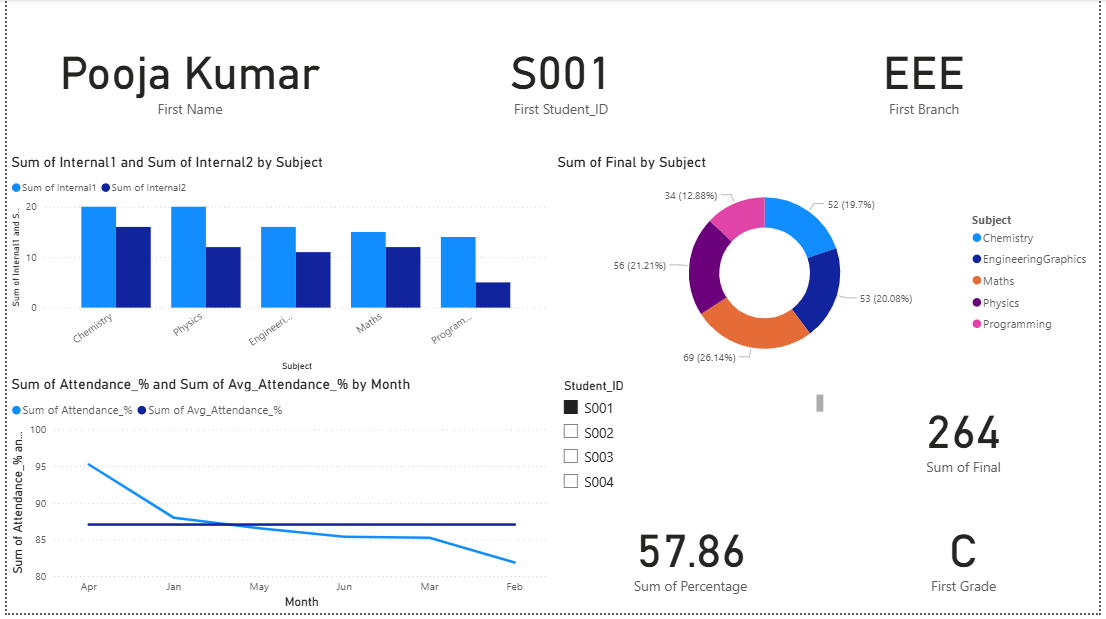

The dashboard page shown, as its layout file describes it:
{"tool":"powerbi","page":{"name":"Page 1","canvas":[1280,720],"ordinal":0},"visuals":[{"type":"card","fields":{"Values":["Sheet1.Name"]},"box":[0,0,429.2,180.6],"z":0},{"type":"card","fields":{"Values":["Sheet1.Student_ID"]},"box":[429.2,0,440.9,180.6],"z":1000},{"type":"card","fields":{"Values":["Sheet1.Branch"]},"box":[870.1,0,410.4,180.6],"z":2000},{"type":"donutChart","fields":{"Y":["Sheet1 (4).Final"],"Series":["Sheet1 (4).Subject"]},"box":[640.3,180.6,640.3,260.3],"z":3000},{"type":"lineChart","fields":{"Category":["Sheet1 (2).Month"],"Y":["Sheet1 (2).Attendance_%","Sheet1 (3).Avg_Attendance_%"]},"box":[0,440.9,640.3,279.1],"z":4000},{"type":"card","fields":{"Values":["Sheet1 (3).Grade"]},"box":[962.7,580.5,317.8,139.5],"z":5000},{"type":"card","fields":{"Values":["Sheet1 (4).Final"]},"box":[962.7,440.9,317.8,139.5],"z":6000},{"type":"card","fields":{"Values":["Sheet1 (3).Percentage"]},"box":[640.3,580.5,322.5,139.5],"z":7000},{"type":"slicer","fields":{"Values":["Sheet1.Student_ID"]},"box":[640.3,440.9,322.5,139.5],"z":8000},{"type":"clusteredColumnChart","fields":{"Y":["Sheet1 (4).Internal1","Sheet1 (4).Internal2"],"Category":["Sheet1 (4).Subject"]},"box":[0,180.6,640.3,260.3],"z":9000}]}

Visuals, with their boxes in screenshot pixels (x1, y1, x2, y2), scaled from the page's 1280x720 canvas onto the 1106x619 screenshot:
card - Sheet1.Name: box=[0, 0, 371, 155]
card - Sheet1.Student_ID: box=[371, 0, 752, 155]
card - Sheet1.Branch: box=[752, 0, 1105, 155]
donutChart - Sheet1 (4).Final x Sheet1 (4).Subject: box=[553, 155, 1105, 379]
lineChart - Sheet1 (2).Month x Sheet1 (2).Attendance_%: box=[0, 379, 553, 618]
card - Sheet1 (3).Grade: box=[832, 499, 1105, 618]
card - Sheet1 (4).Final: box=[832, 379, 1105, 499]
card - Sheet1 (3).Percentage: box=[553, 499, 832, 618]
slicer - Sheet1.Student_ID: box=[553, 379, 832, 499]
clusteredColumnChart - Sheet1 (4).Internal1 x Sheet1 (4).Internal2: box=[0, 155, 553, 379]
